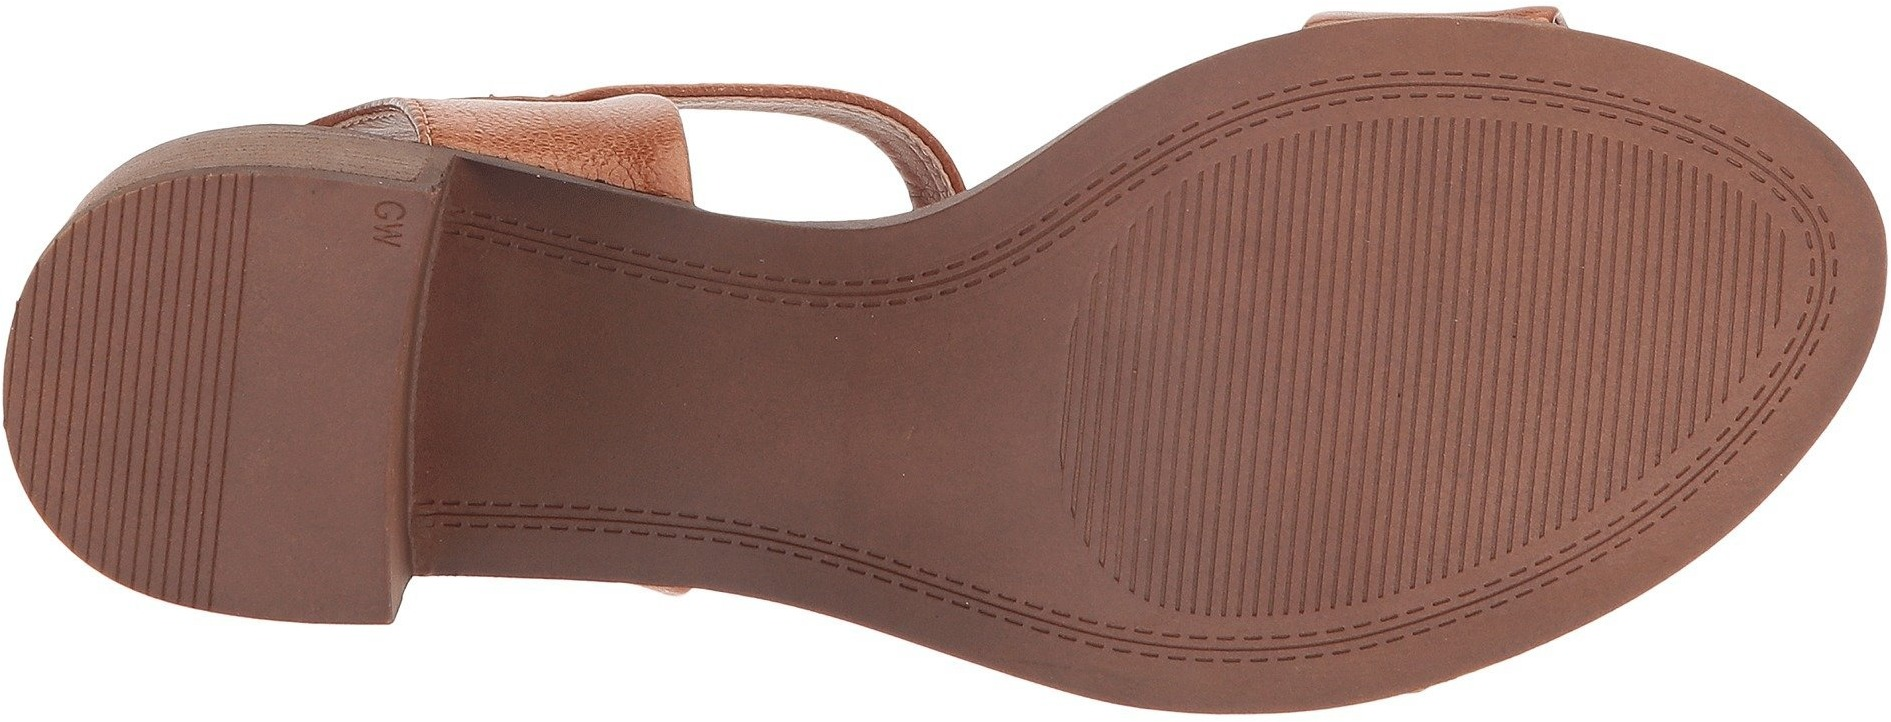other: (1075, 283, 1399, 626), (1394, 137, 1735, 441), (794, 311, 1002, 546), (45, 251, 238, 485), (248, 282, 387, 413), (1257, 143, 1388, 278), (227, 494, 355, 616), (1405, 446, 1520, 562)
text: (344, 188, 425, 266)
